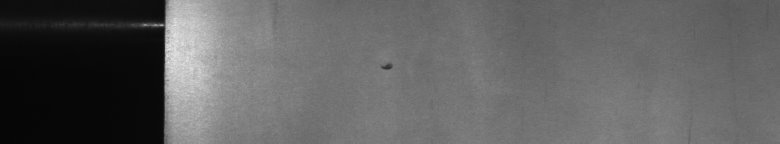fi: (380, 56, 395, 77)
